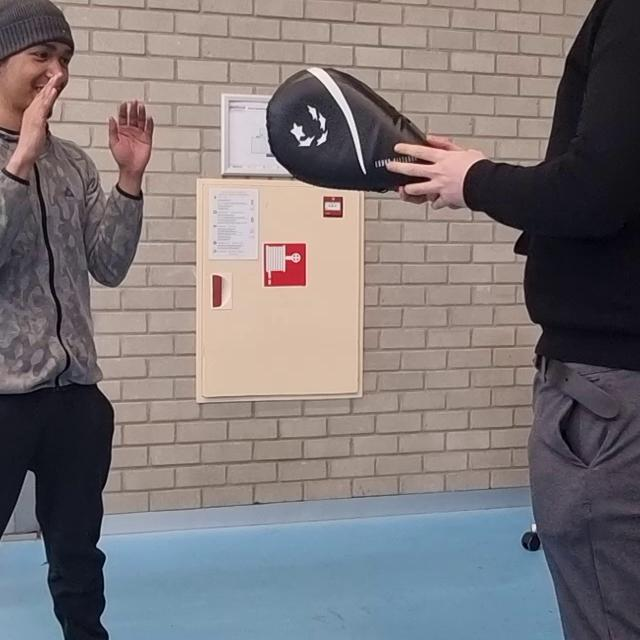paddle: (268, 68, 465, 194)
